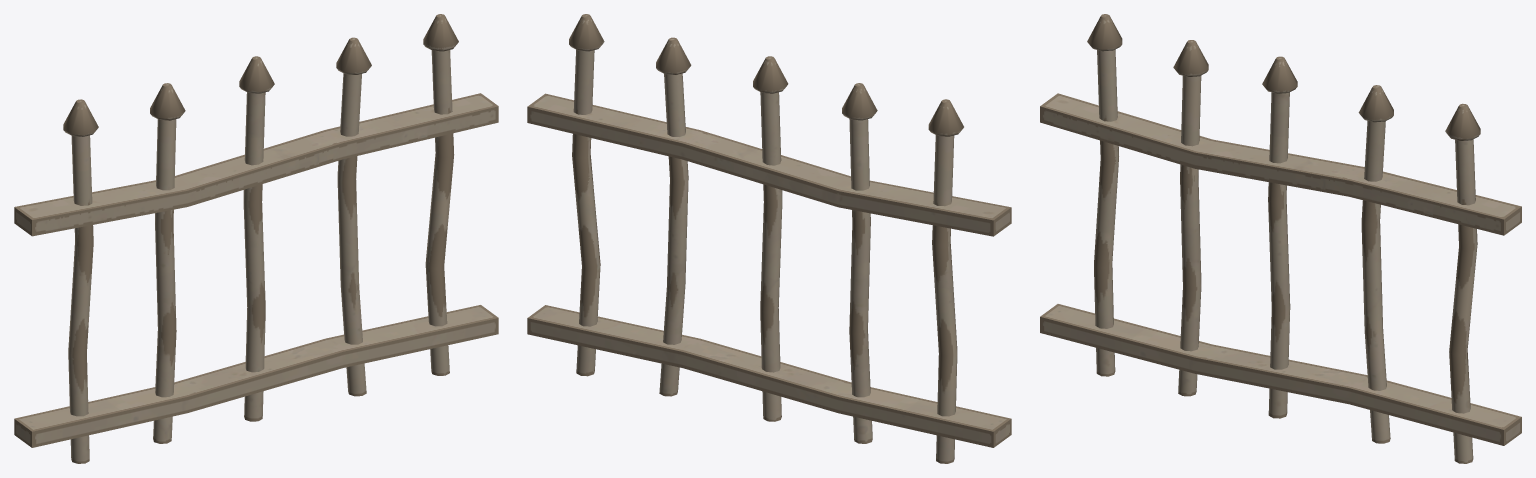
The model's file is SM_metal_fence_01.glb.
The picture shows the model from 3 angles, left to right: view 1: azimuth 30°, elevation 25°; view 2: azimuth 150°, elevation 25°; view 3: azimuth 330°, elevation 25°; orthographic projection.
Parts seen in each view (by area): view 1: SM_metal_fence_01; view 2: SM_metal_fence_01; view 3: SM_metal_fence_01.
Boxes of the visible parts, x1,y1,x2,y2 form: SM_metal_fence_01: [14, 14, 498, 463]; SM_metal_fence_01: [527, 14, 1011, 463]; SM_metal_fence_01: [1040, 14, 1521, 463].
Bounding box in the file's own units: 3 × 2.21 × 0.2002.
1 material, 1 textured.
